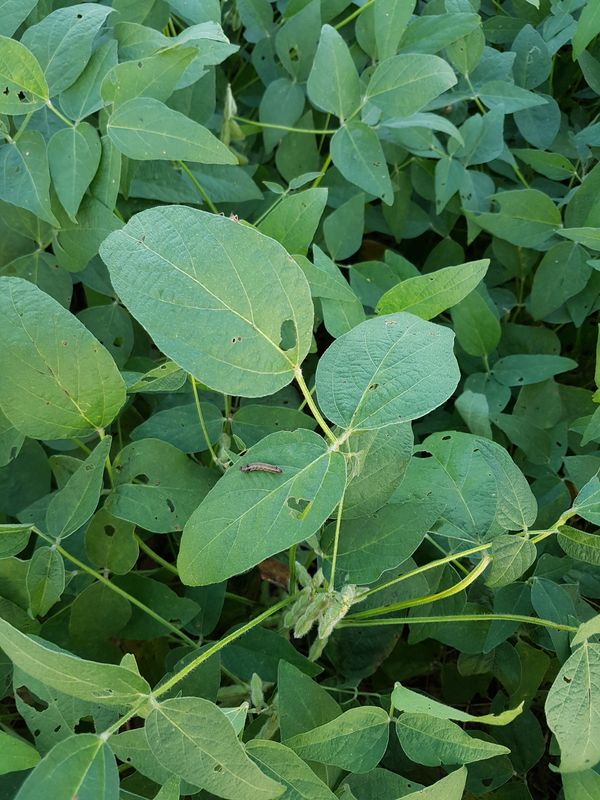Spodoptera_albula: (233, 451, 287, 488)
